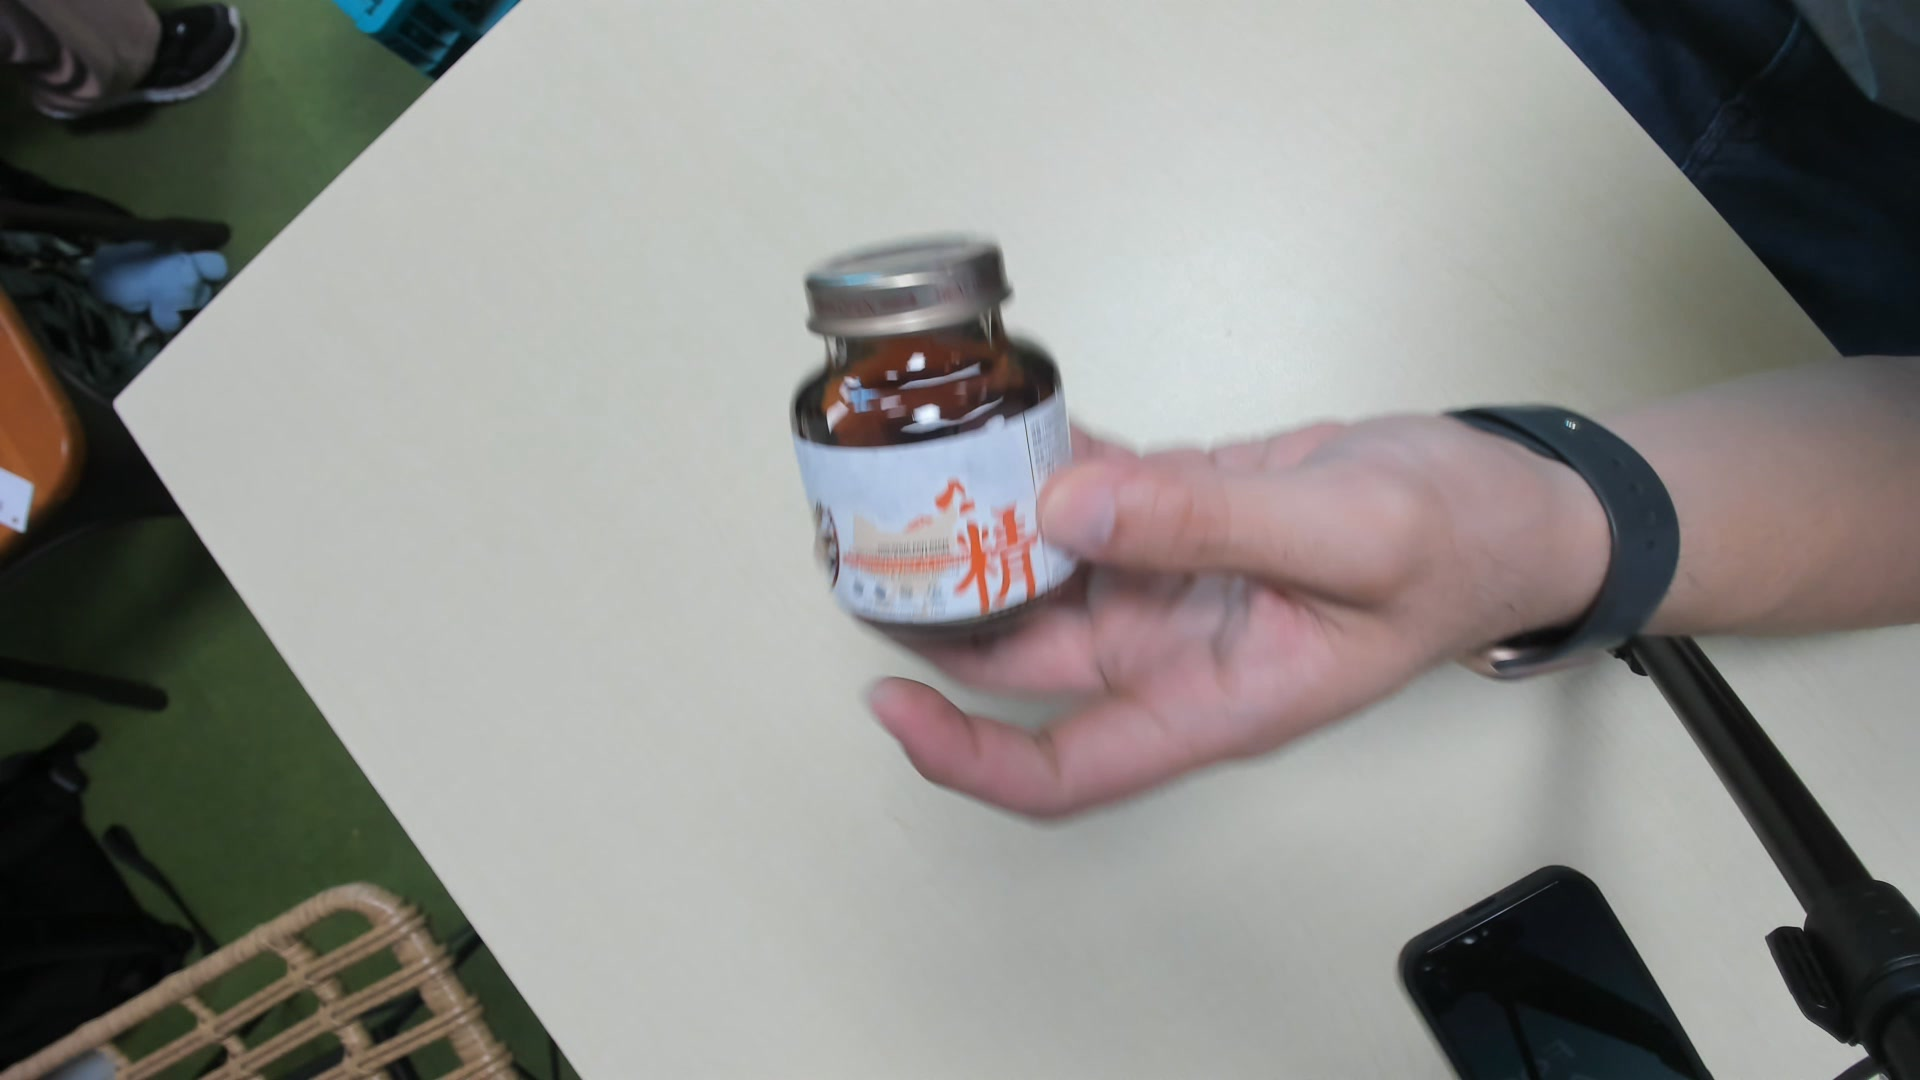OtherSauceDressing_0-99g_NonHalal_NonHealthy: (789, 237, 1091, 651)
